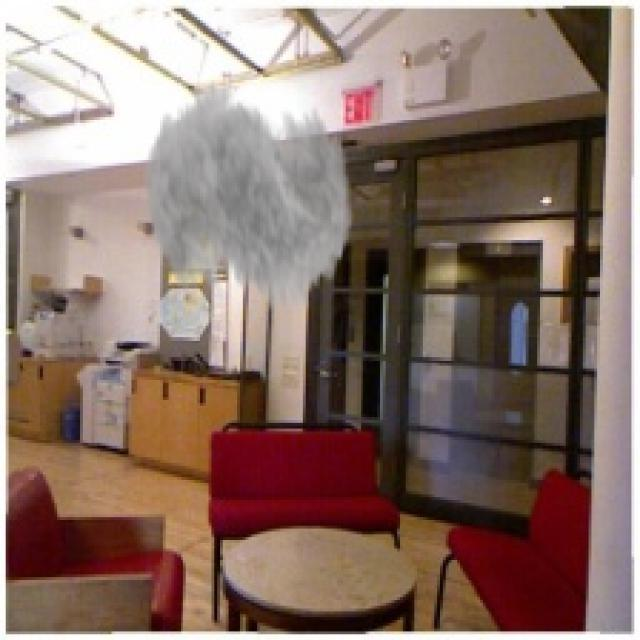Smoke: (143, 60, 354, 343)
